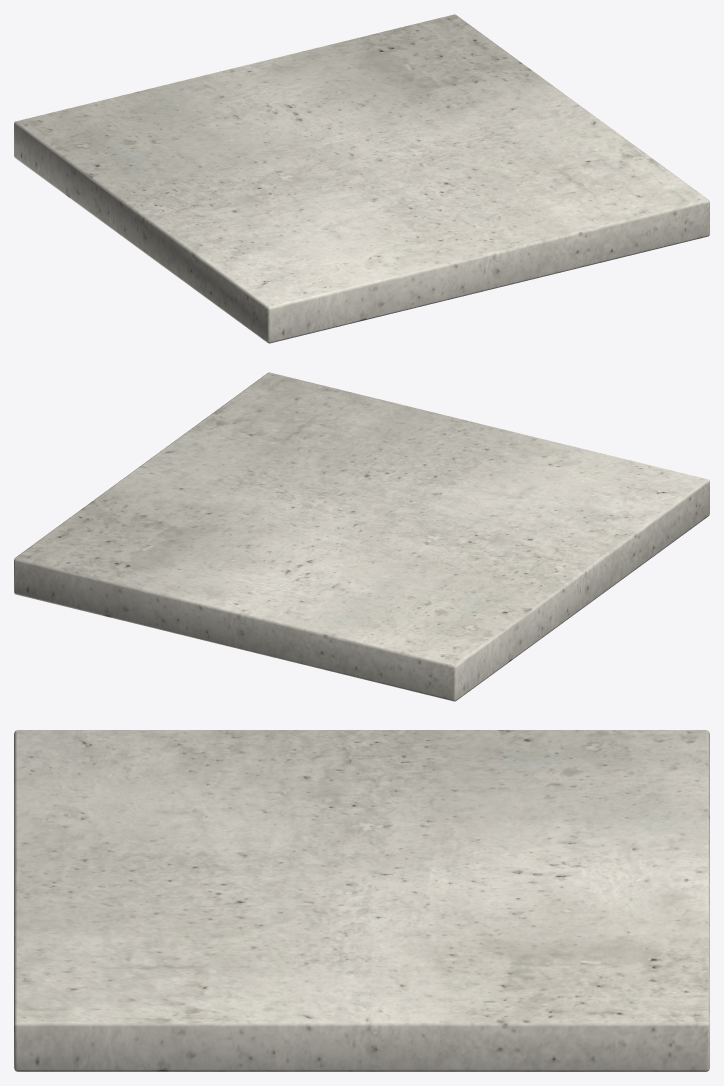
File: table-platte-10.gltf
3 views of the same model, one above another, from view 1: azimuth 30°, elevation 25°; view 2: azimuth 150°, elevation 25°; view 3: azimuth 270°, elevation 25° (orthographic). The views are drawn at different scales.
Parts seen in each view (by area): view 1: Table-Platte_10.001; view 2: Table-Platte_10.001; view 3: Table-Platte_10.001.
Boxes of the visible parts, box(x1,y1,x2,y2) form: Table-Platte_10.001: box(14, 14, 709, 343); Table-Platte_10.001: box(14, 372, 709, 701); Table-Platte_10.001: box(14, 730, 709, 1071).
Bounding box in the file's own units: 1.25 × 0.1 × 1.25.
1 material, 1 textured.
